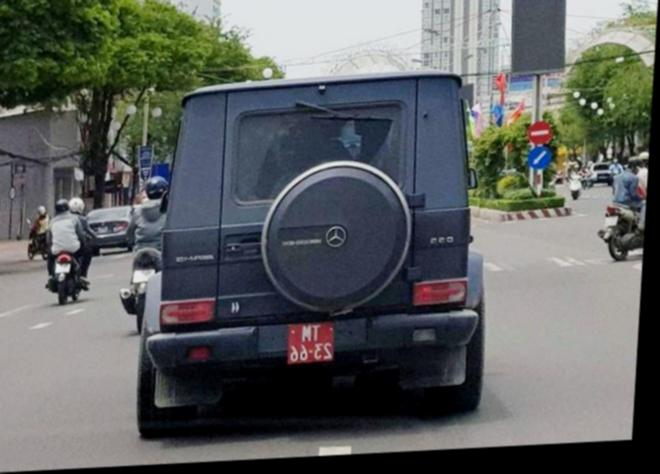License_Plate: (285, 321, 336, 365)
